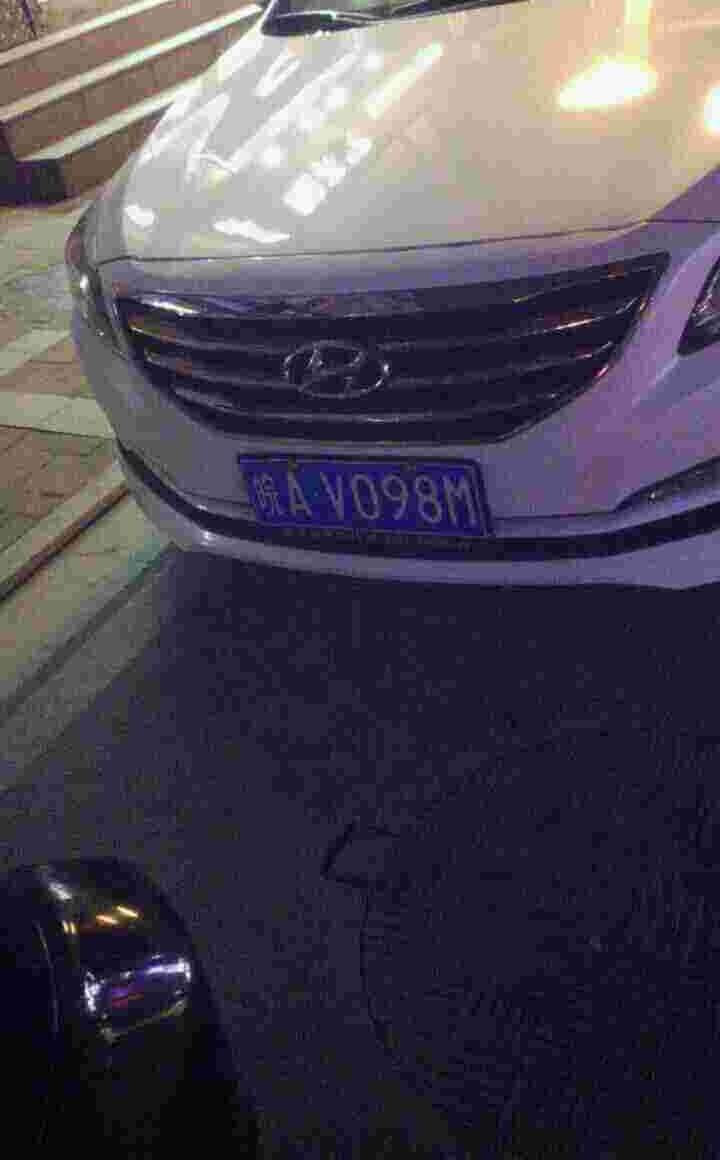license_plate: (232, 445, 487, 537)
